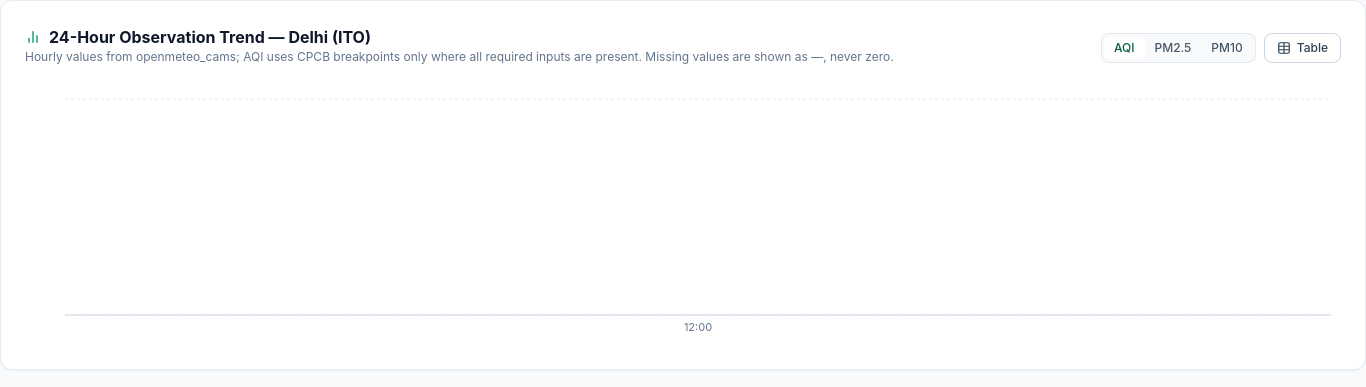
HistoricalTrendChart Component › renders missing trend values as an em dash rather than zero
Click the button with aria-label "Show accessible data table view" at (1302, 48), box [1264, 33, 1341, 63]
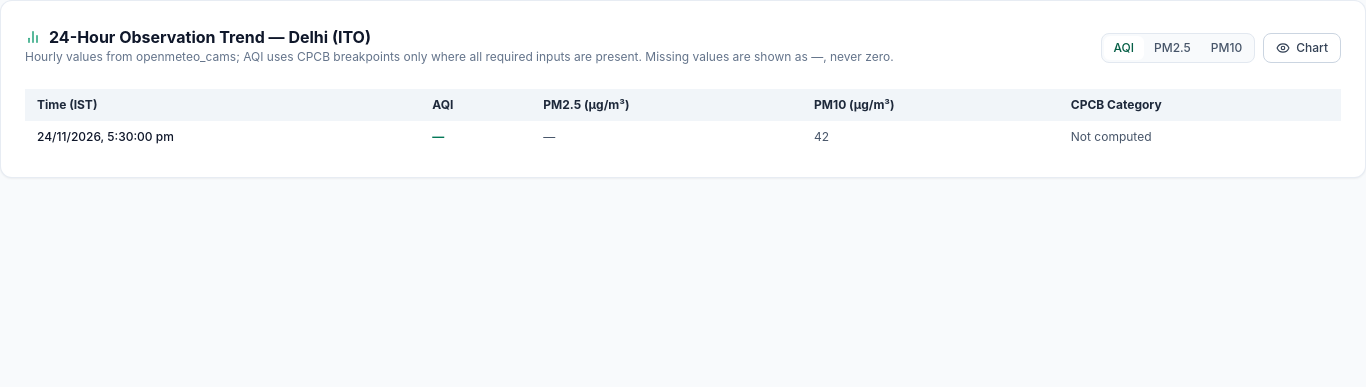
Check: the row "24/11/2026, 5:30:00 pm — — 42 Not computed" is shown, box [25, 121, 1341, 153]
Check: the 1st cell "—" is shown, box [420, 121, 531, 153]
Check: the 2nd cell "—" is shown, box [531, 121, 802, 153]
